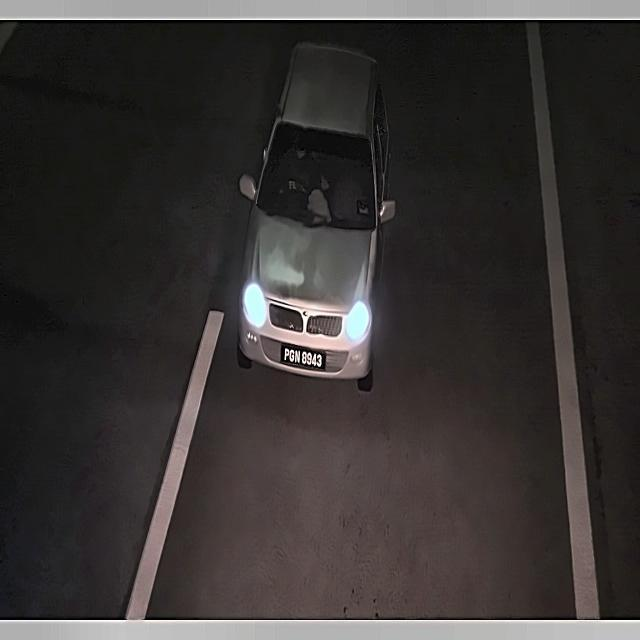car: (276, 339, 331, 377)
